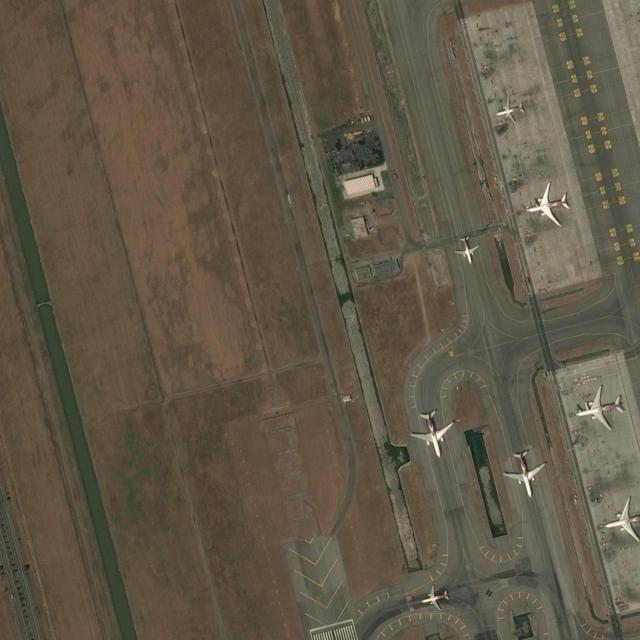Aircraft: (574, 387, 627, 433), (409, 407, 458, 456), (503, 447, 549, 498), (526, 180, 572, 228), (604, 497, 640, 542), (495, 94, 526, 126), (419, 585, 452, 612), (456, 233, 481, 263)
